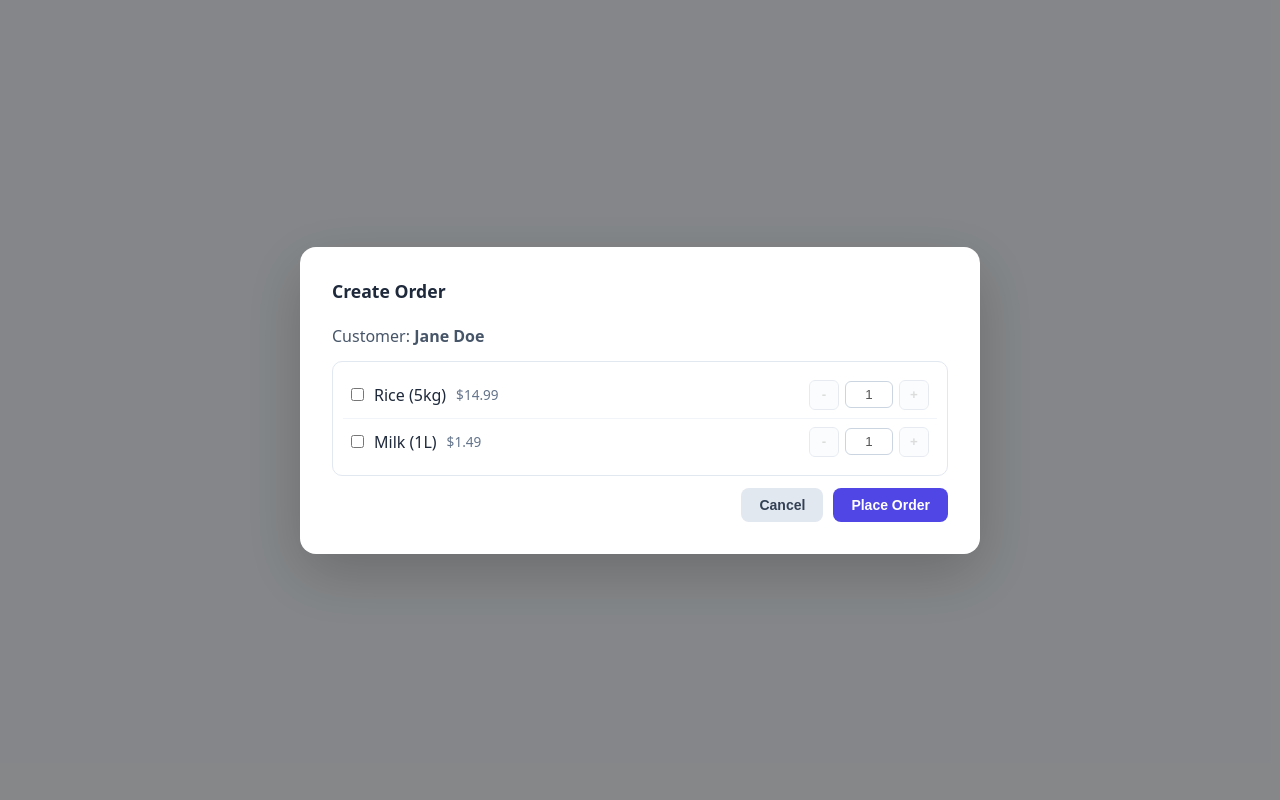
Test: OrderForm › shows error when submitting with no products selected
Click the button "Place Order" at {"x": 891, "y": 504}, box left=833, top=488, right=948, bottom=522
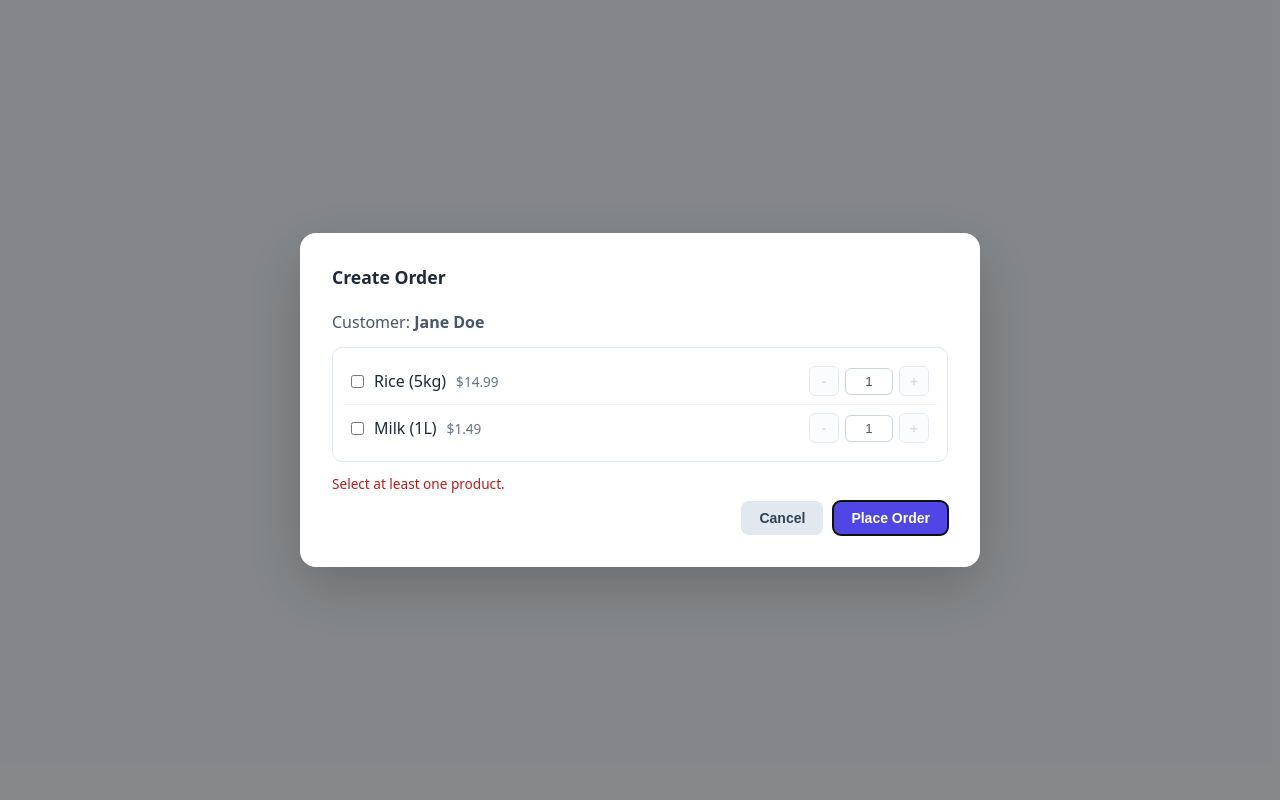
Check: the text "Select at least one product." is shown, box left=332, top=474, right=505, bottom=493
